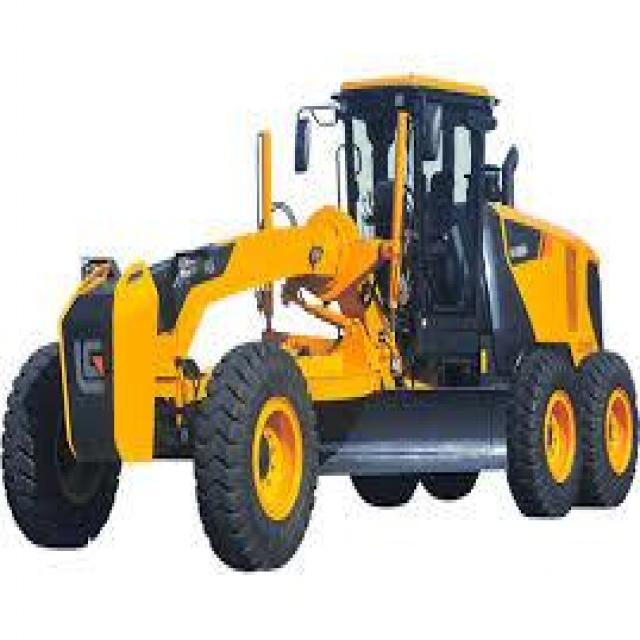Grader: (10, 62, 638, 609)
